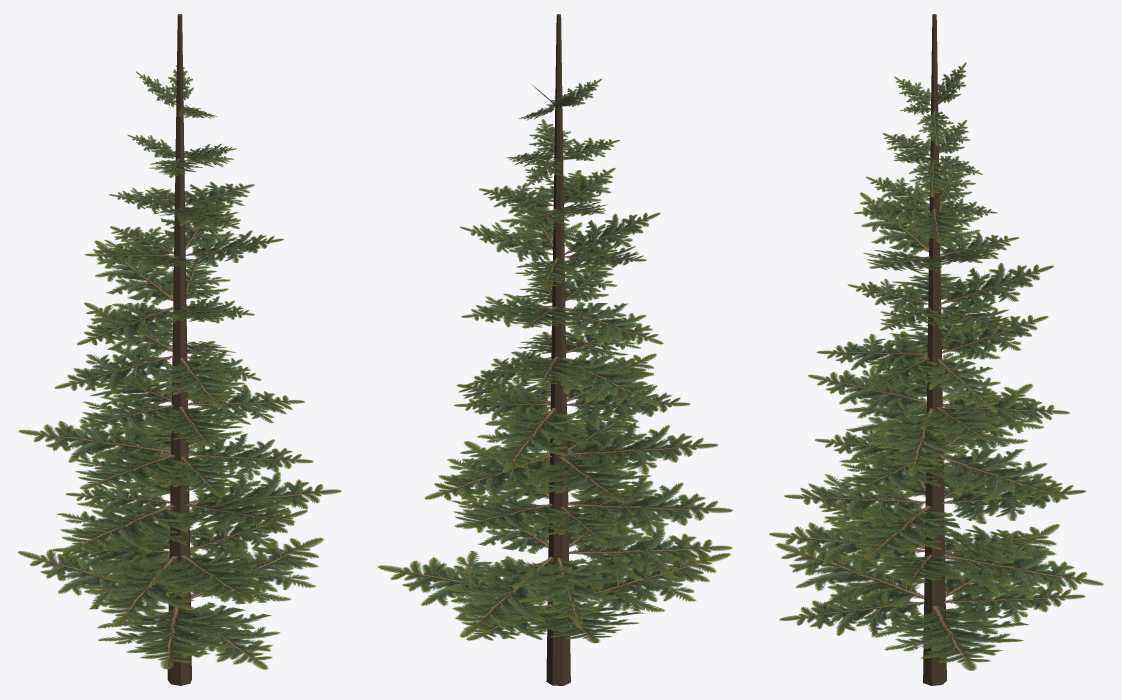
The model's file is fir-0.glb.
The picture shows the model from 3 angles, left to right: view 1: azimuth 30°, elevation 25°; view 2: azimuth 150°, elevation 25°; view 3: azimuth 270°, elevation 25°; orthographic projection.
Visible parts, largest first — view 1: Evergreen boughs, Tapered evergreen trunk; view 2: Evergreen boughs, Tapered evergreen trunk; view 3: Evergreen boughs, Tapered evergreen trunk.
Boxes of the visible parts, <box> form: Evergreen boughs: <box>17,65,341,669</box>; Tapered evergreen trunk: <box>167,14,191,685</box>; Evergreen boughs: <box>377,78,732,643</box>; Tapered evergreen trunk: <box>546,14,570,685</box>; Evergreen boughs: <box>769,62,1103,670</box>; Tapered evergreen trunk: <box>923,14,946,685</box>.
Size of the model in its own units: 1.88 by 3.8 by 1.77.
2 materials, 1 textured.
